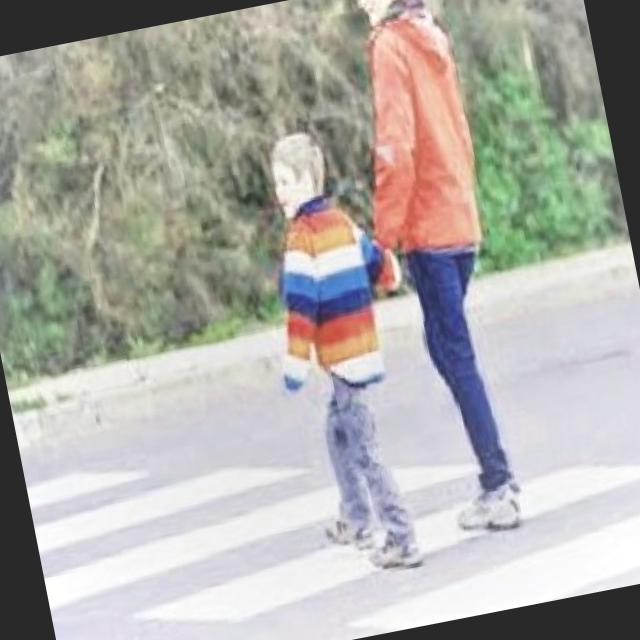Person: (336, 0, 557, 555), (220, 119, 456, 589)
